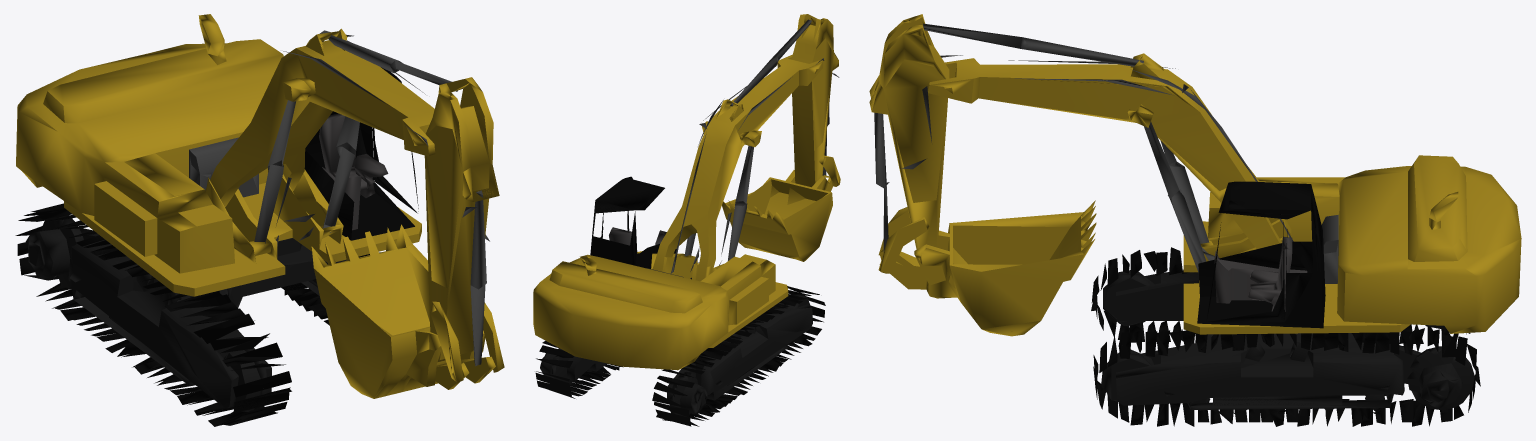
The model's file is excavator.lod0.glb.
The picture shows the model from 3 angles, left to right: view 1: azimuth 30°, elevation 25°; view 2: azimuth 150°, elevation 25°; view 3: azimuth 270°, elevation 25°; orthographic projection. The views are drawn at different scales.
Visible parts, largest first — view 1: Object_3, Object_2; view 2: Object_3, Object_2; view 3: Object_3, Object_2.
Part boxes in pixels (x1,y1,x2,y2): Object_3: (16, 14, 504, 411); Object_2: (15, 67, 418, 426); Object_3: (533, 14, 840, 416); Object_2: (535, 176, 825, 426); Object_3: (869, 14, 1521, 410); Object_2: (1091, 181, 1480, 426).
Bounding box in the file's own units: 3.87 × 5.92 × 9.89.
